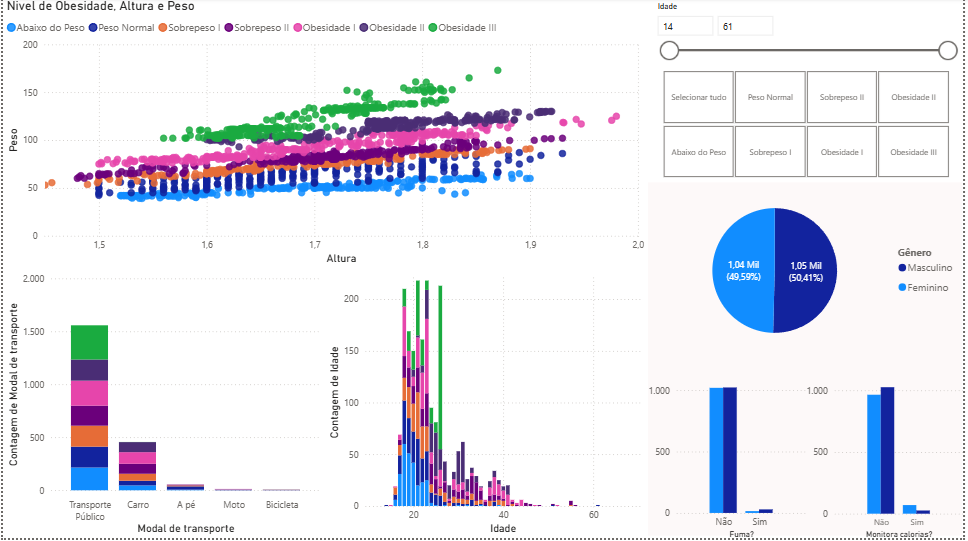

What the dashboard file says about the page in this screenshot:
{"tool":"powerbi","page":{"name":"Página 1","canvas":[1280,720],"ordinal":0},"visuals":[{"type":"scatterChart","fields":{"X":["dash.Altura"],"Y":["dash.Peso"],"Series":["TabelaObesidade.NivelObesidade"]},"box":[0,0,859.6,360.4],"z":0},{"type":"shape","box":[860.3,241.9,419.4,475.6],"z":0},{"type":"slicer","fields":{"Values":["dash.Idade"]},"box":[859.6,0,420.9,90.1],"z":1000},{"type":"group","id":"g1","title":"Grupo 2","box":[859.6,245.2,420.9,475.6],"z":1000},{"type":"slicer","fields":{"Values":["TabelaObesidade.NivelObesidade"]},"box":[859.6,90.1,420.9,155.1],"z":2000},{"type":"pieChart","title":"Gênero","fields":{"Category":["dash.Gênero"],"Y":["CountNonNull(dash.Gênero)"]},"box":[859.6,245.2,420.9,236],"z":3000,"group":"g1"},{"type":"columnChart","fields":{"Category":["dash.Modal de transporte"],"Y":["CountNonNull(dash.Modal de transporte)"],"Series":["TabelaObesidade.NivelObesidade"]},"box":[0,360.4,428.3,360.4],"z":4000},{"type":"clusteredColumnChart","fields":{"Category":["dash.Fuma?"],"Y":["CountNonNull(dash.Fuma?)"],"Series":["dash.Gênero"]},"box":[859.6,481.5,211.2,239.3],"z":5000,"group":"g1"},{"type":"columnChart","fields":{"Category":["dash.Idade"],"Y":["CountNonNull(dash.Idade)"],"Series":["TabelaObesidade.NivelObesidade"]},"box":[428.3,360.4,431.3,360.4],"z":6000},{"type":"clusteredColumnChart","fields":{"Series":["dash.Gênero"],"Category":["dash.Monitora calorias?"],"Y":["CountNonNull(dash.Monitora calorias?)"]},"box":[1070.8,481.5,209.7,239.3],"z":7000,"group":"g1"}]}

Visuals, with their boxes in screenshot pixels (x1, y1, x2, y2), scaled from the page's 1280x720 canvas onto the 968x541 screenshot:
scatterChart - dash.Altura x dash.Peso: (0, 0, 650, 271)
shape: (651, 182, 967, 539)
slicer - dash.Idade: (650, 0, 967, 68)
"Grupo 2" group: (650, 184, 967, 540)
slicer - TabelaObesidade.NivelObesidade: (650, 68, 967, 184)
"Gênero" pieChart: (650, 184, 967, 362)
columnChart - dash.Modal de transporte x CountNonNull(dash.Modal de transporte): (0, 271, 324, 540)
clusteredColumnChart - dash.Fuma? x CountNonNull(dash.Fuma?): (650, 362, 810, 540)
columnChart - dash.Idade x CountNonNull(dash.Idade): (324, 271, 650, 540)
clusteredColumnChart - dash.Gênero x dash.Monitora calorias?: (810, 362, 967, 540)
